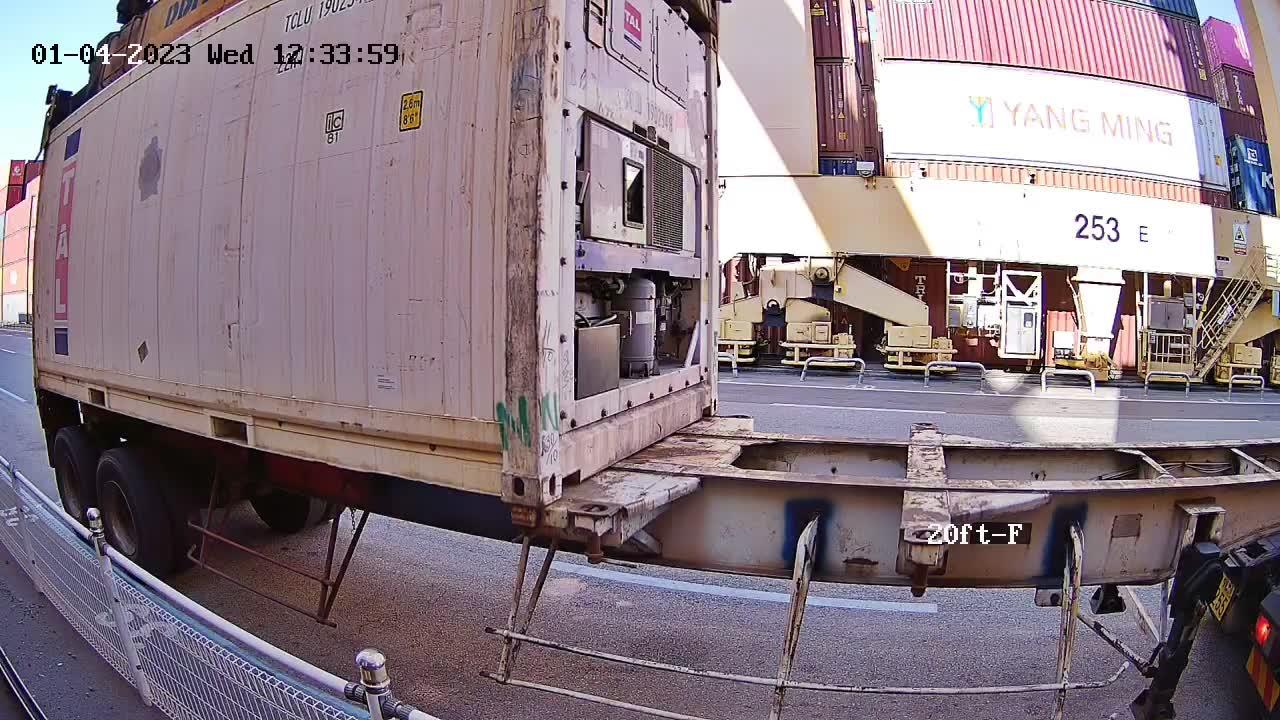Chassis: (570, 414, 756, 518)
Cone: (573, 501, 621, 564), (505, 504, 542, 543)
Hole_L: (540, 433, 590, 506)
Hole_R: (467, 436, 541, 503), (696, 376, 719, 421)
Tire: (95, 460, 152, 566), (55, 436, 93, 538)
